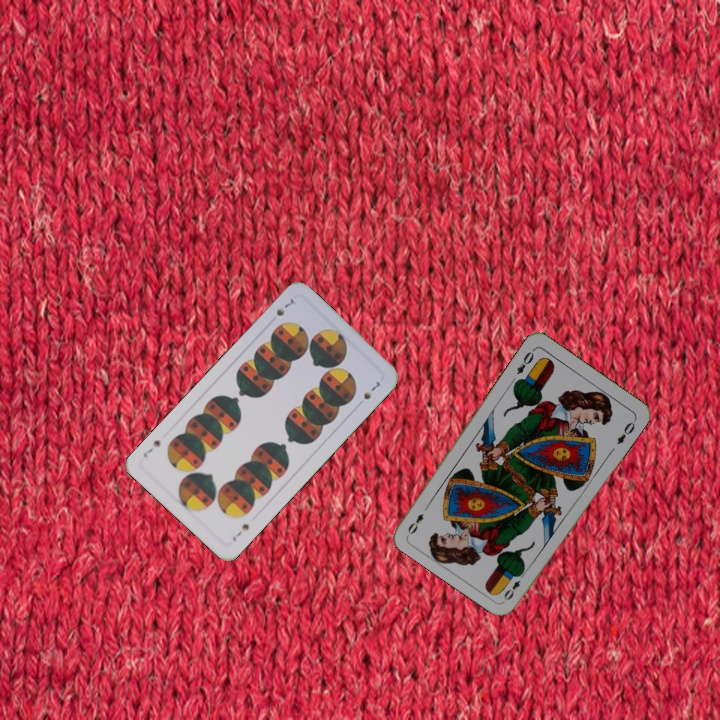EO: (500, 567, 528, 603), (513, 345, 537, 377)
S7: (272, 294, 297, 319), (228, 520, 252, 544)
